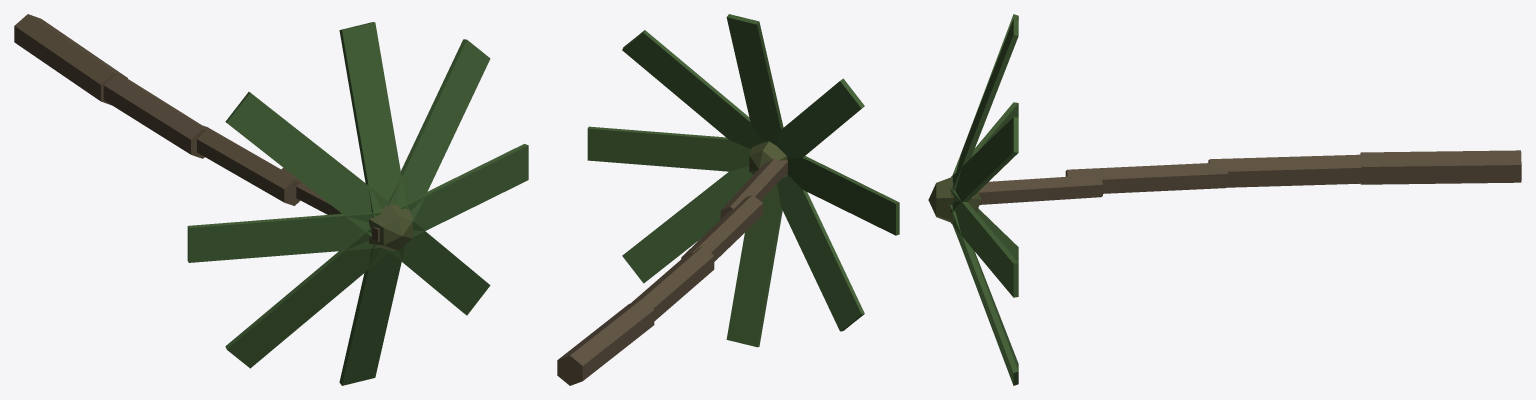
File: tree-palm.glb
The picture shows the model from 3 angles, left to right: view 1: azimuth 30°, elevation 25°; view 2: azimuth 150°, elevation 25°; view 3: azimuth 270°, elevation 25°; orthographic projection. The views are drawn at different scales.
Visible parts, largest first — view 1: tree-palm; view 2: tree-palm; view 3: tree-palm.
Boxes of the visible parts, left/top/right/bottom form: tree-palm: left=14, top=14, right=528, bottom=385; tree-palm: left=557, top=14, right=899, bottom=385; tree-palm: left=928, top=14, right=1521, bottom=385.
Size of the model in its own units: 4.29 by 4.29 by 6.65.
